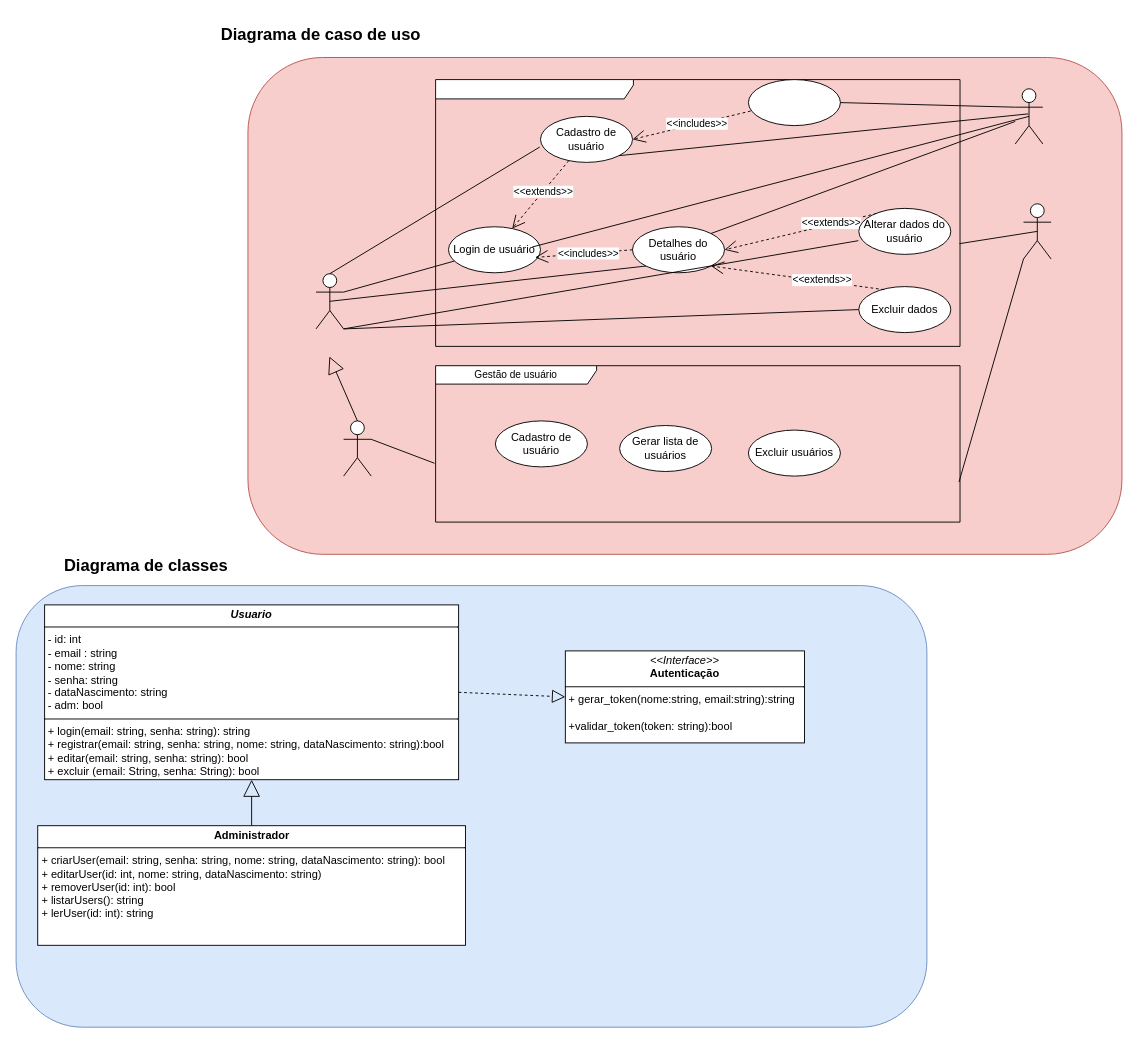
Image size: 1138x1043. Some labels were removed from this diagram. The shapes that lost their labels are listed below. From the top down, each one's box as (x1, y1, x2, y2) in pixels, then its label:
(748, 79, 840, 126): Notificação de usuário criado
(1014, 88, 1043, 144): Demais aplicações
(435, 79, 960, 346): Gestão própria
(1023, 203, 1051, 259): BD
(315, 273, 344, 329): Usuário
(343, 420, 371, 476): Administrador
